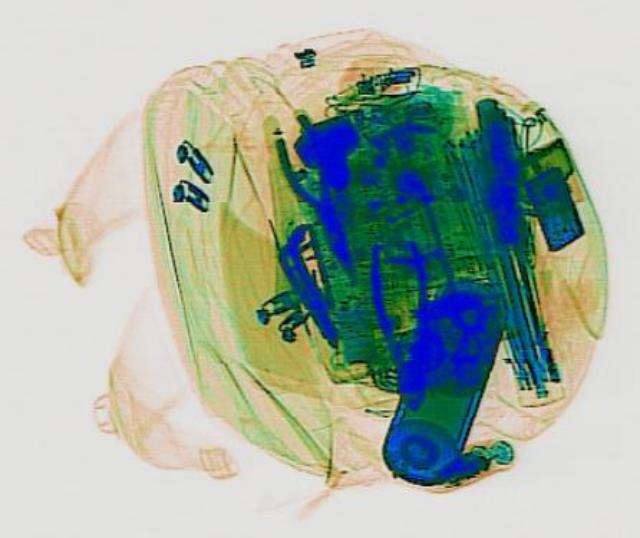Pliers: (262, 111, 368, 282), (363, 237, 441, 409)
